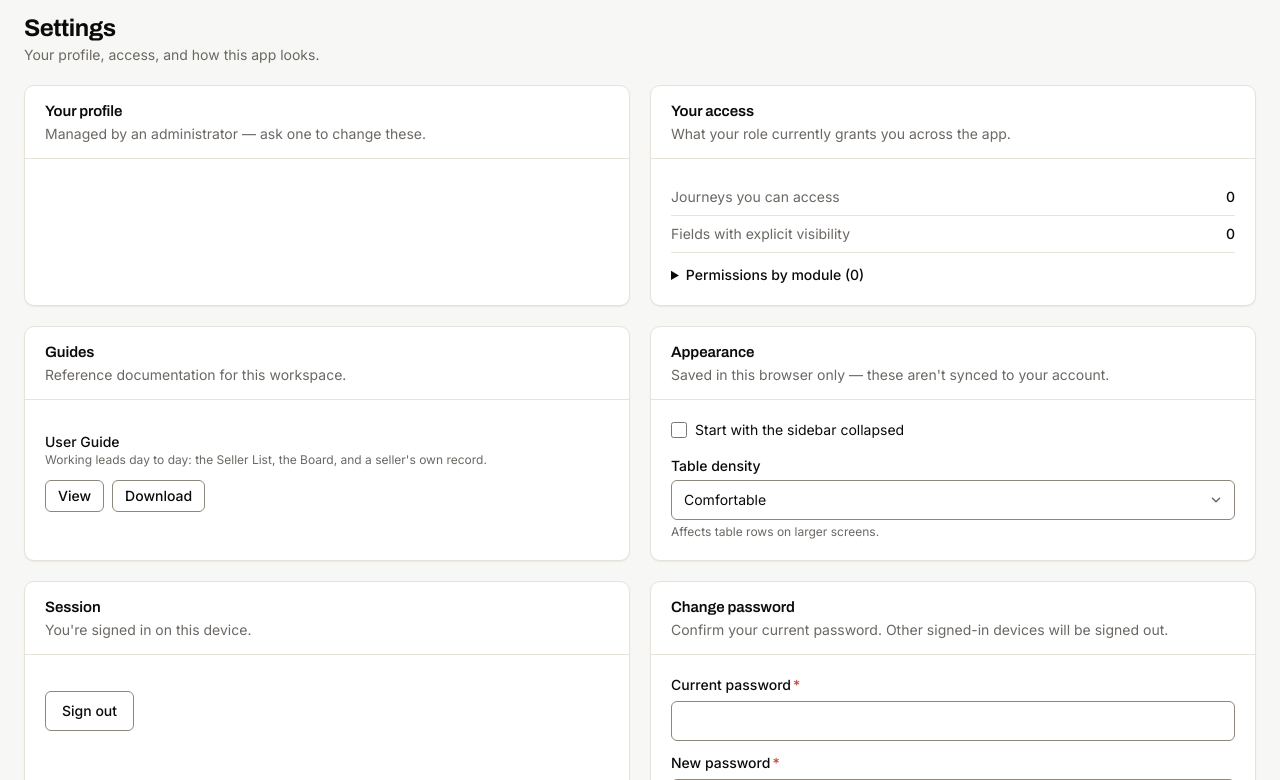
Test: settings › changes the password and reports that other sessions ended
Type "Current-password-123!" into the password field labelled "Current password*".
click(953, 721); type("Current-password-123!")  # box [671, 701, 1235, 741]
(page scrolled)
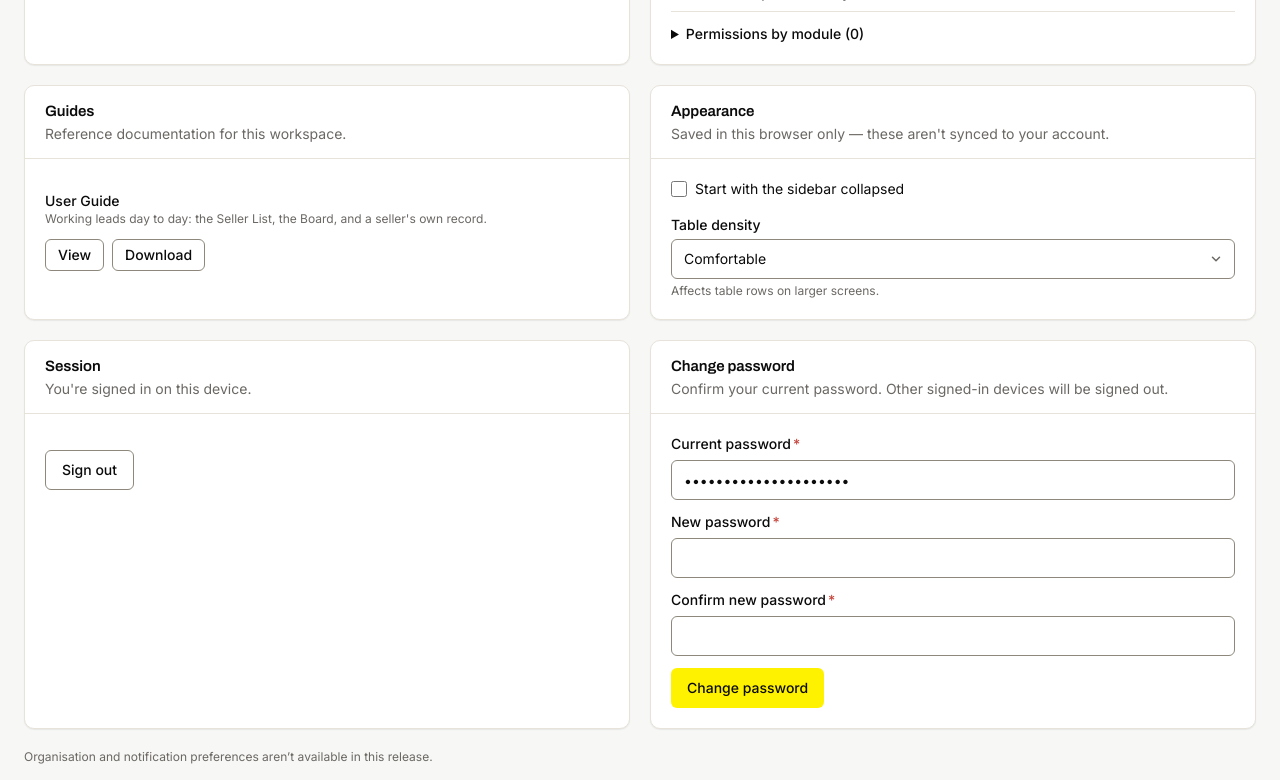
Type "Changed-password-123!" into the password field labelled "New password*".
click(953, 558); type("Changed-password-123!")  # box [671, 538, 1235, 578]
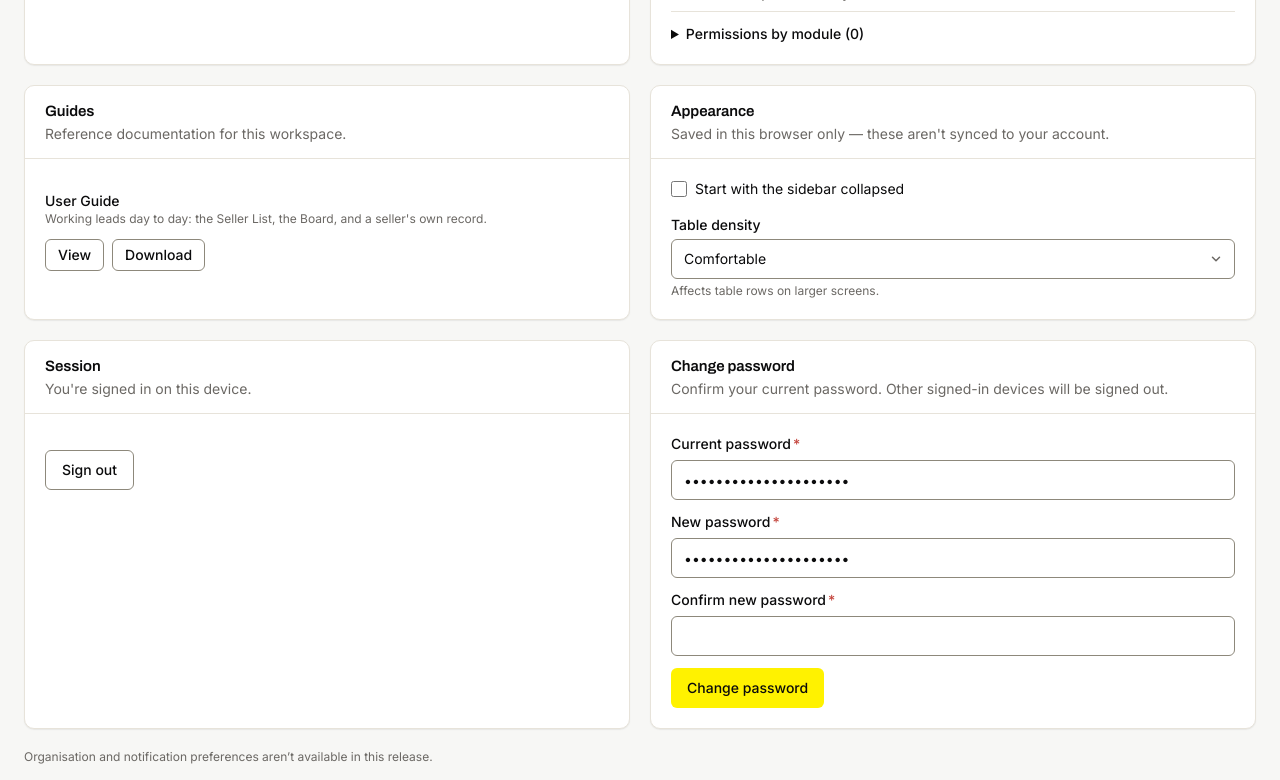
Type "Changed-password-123!" into the password field labelled "Confirm new password*".
click(953, 636); type("Changed-password-123!")  # box [671, 616, 1235, 656]
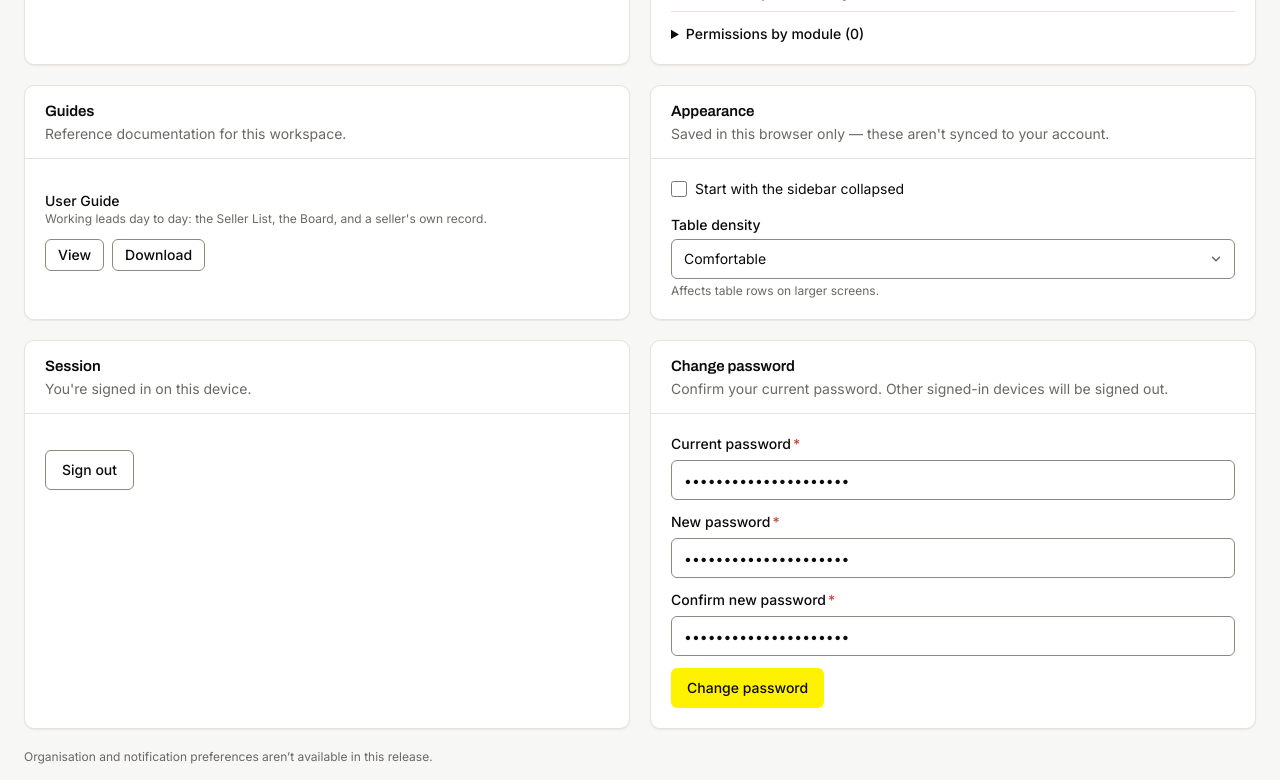
Click the button "Change password".
click(748, 688)  # box [671, 668, 824, 708]
(page scrolled)
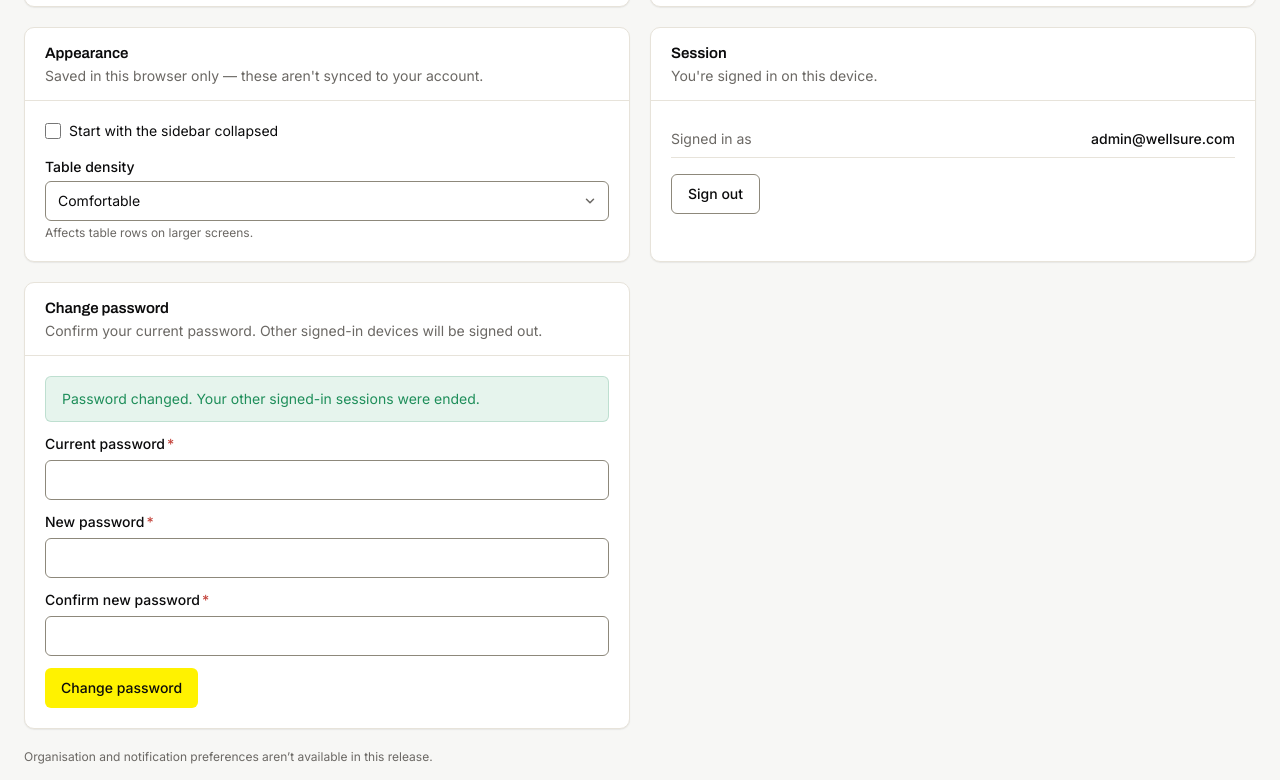
Check: the text "Password changed. Your other signed-in sessions were ended." is shown, box [45, 376, 609, 422]
